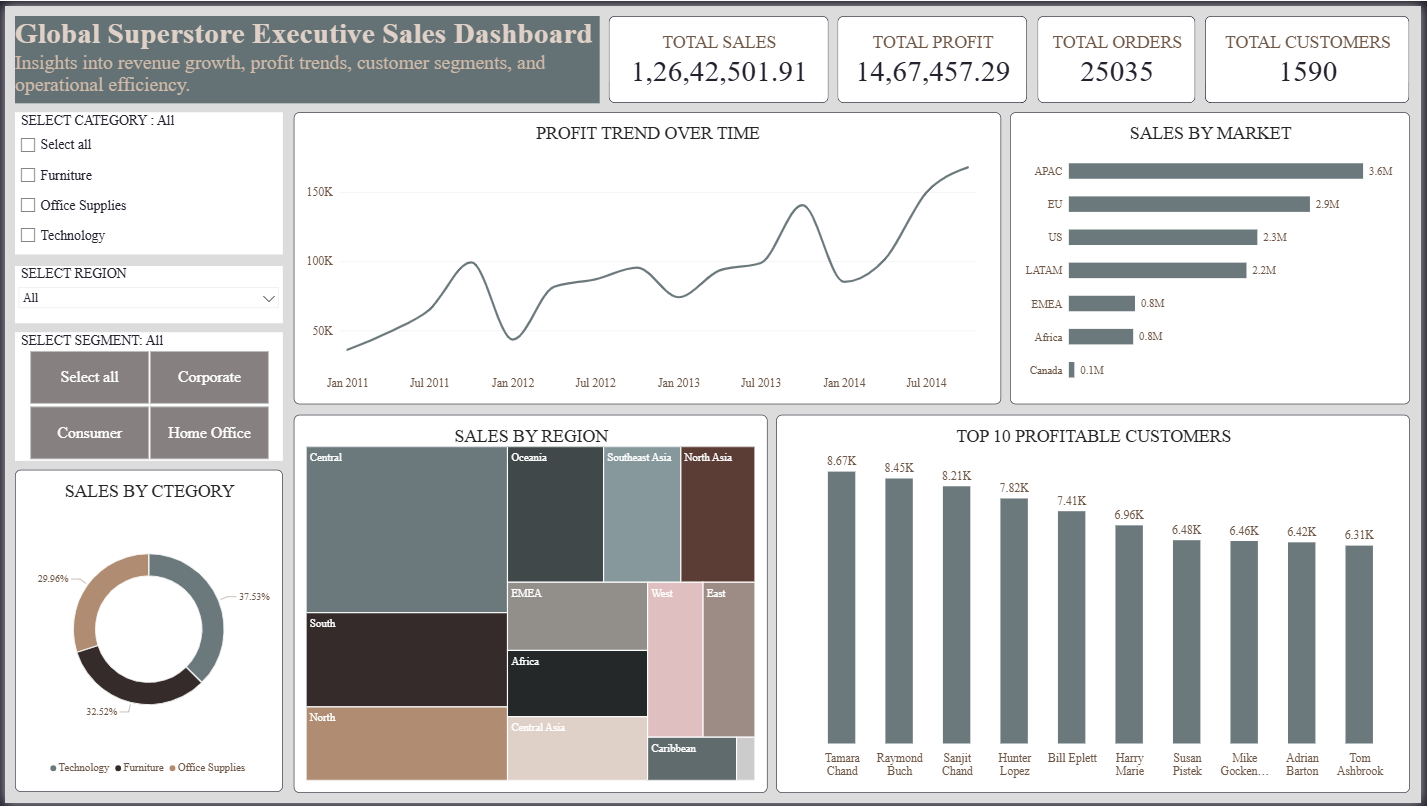

This screenshot's page, from the dashboard's own definition file:
{"tool":"powerbi","page":{"name":"Page 1","canvas":[1920,1080],"ordinal":0},"visuals":[{"type":"cardVisual","fields":{"Data":["Sum(Orders.Sales)"]},"box":[818.5,13,298.1,118.5],"z":0},{"type":"textbox","title":"Global Superstore Executive Sales Dashboard","box":[13,13,792.6,118.5],"z":1000},{"type":"cardVisual","fields":{"Data":["Sum(Orders.Profit)"]},"box":[1129.6,13,257.4,118.5],"z":2000},{"type":"cardVisual","fields":{"Data":["Count(Orders.Order ID)"]},"box":[1400,13,214.8,118.5],"z":3000},{"type":"cardVisual","fields":{"Data":["Count(Orders.Customer ID)"]},"box":[1627.8,13,277.8,118.5],"z":4000},{"type":"slicer","fields":{"Values":["Orders.Category"]},"box":[13,144.4,363,192.6],"z":5000},{"type":"slicer","fields":{"Values":["Orders.Region"]},"box":[13,351.9,363,77.8],"z":6000},{"type":"slicer","fields":{"Values":["Orders.Segment"]},"box":[13,442.6,363,174.1],"z":7000},{"type":"lineChart","title":"PROFIT TREND OVER TIME","fields":{"Category":["Orders.Order Date.Variation.Date Hierarchy.Year","Orders.Order Date.Variation.Date Hierarchy.Quarter","Orders.Order Date.Variation.Date Hierarchy.Month","Orders.Order Date.Variation.Date Hierarchy.Day"],"Y":["Sum(Orders.Profit)"]},"box":[390.7,144.4,959.3,396.3],"z":8000},{"type":"donutChart","title":"SALES BY CTEGORY","fields":{"Category":["Orders.Category"],"Y":["Sum(Orders.Sales)"]},"box":[13,629.6,363,437],"z":9000},{"type":"barChart","title":"SALES BY MARKET","fields":{"Category":["Orders.Market"],"Y":["Sum(Orders.Sales)"]},"box":[1363,144.4,542.6,396.3],"z":10000},{"type":"treemap","title":"SALES BY REGION","fields":{"Group":["Orders.Region"],"Values":["Sum(Orders.Sales)"]},"box":[390.7,553.7,642.6,513],"z":11000},{"type":"columnChart","title":"TOP 10 PROFITABLE CUSTOMERS","fields":{"Category":["Orders.Customer Name"],"Y":["Sum(Orders.Profit)"]},"box":[1046.3,553.7,859.3,513],"z":12000}]}

Visuals, with their boxes in screenshot pixels (x1, y1, x2, y2), scaled from the page's 1920x1080 canvas onto the 1427x806 screenshot:
cardVisual - Sum(Orders.Sales): [x1=608, y1=10, x2=830, y2=98]
"Global Superstore Executive Sales Dashboard" textbox: [x1=10, y1=10, x2=599, y2=98]
cardVisual - Sum(Orders.Profit): [x1=840, y1=10, x2=1031, y2=98]
cardVisual - Count(Orders.Order ID): [x1=1041, y1=10, x2=1200, y2=98]
cardVisual - Count(Orders.Customer ID): [x1=1210, y1=10, x2=1416, y2=98]
slicer - Orders.Category: [x1=10, y1=108, x2=279, y2=252]
slicer - Orders.Region: [x1=10, y1=263, x2=279, y2=321]
slicer - Orders.Segment: [x1=10, y1=330, x2=279, y2=460]
"PROFIT TREND OVER TIME" lineChart: [x1=290, y1=108, x2=1003, y2=404]
"SALES BY CTEGORY" donutChart: [x1=10, y1=470, x2=279, y2=796]
"SALES BY MARKET" barChart: [x1=1013, y1=108, x2=1416, y2=404]
"SALES BY REGION" treemap: [x1=290, y1=413, x2=768, y2=796]
"TOP 10 PROFITABLE CUSTOMERS" columnChart: [x1=778, y1=413, x2=1416, y2=796]
